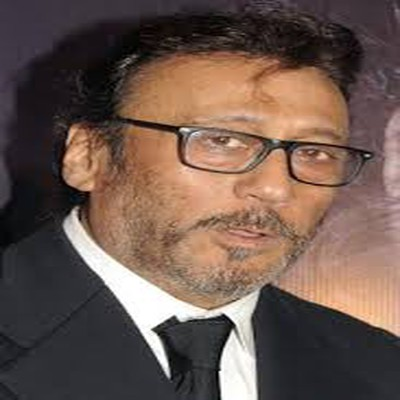eywear: (116, 81, 372, 192)
